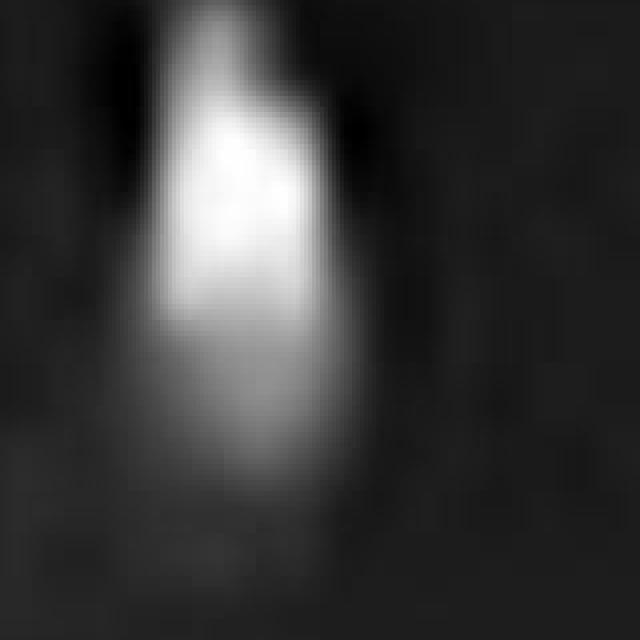person: (113, 1, 357, 492)
